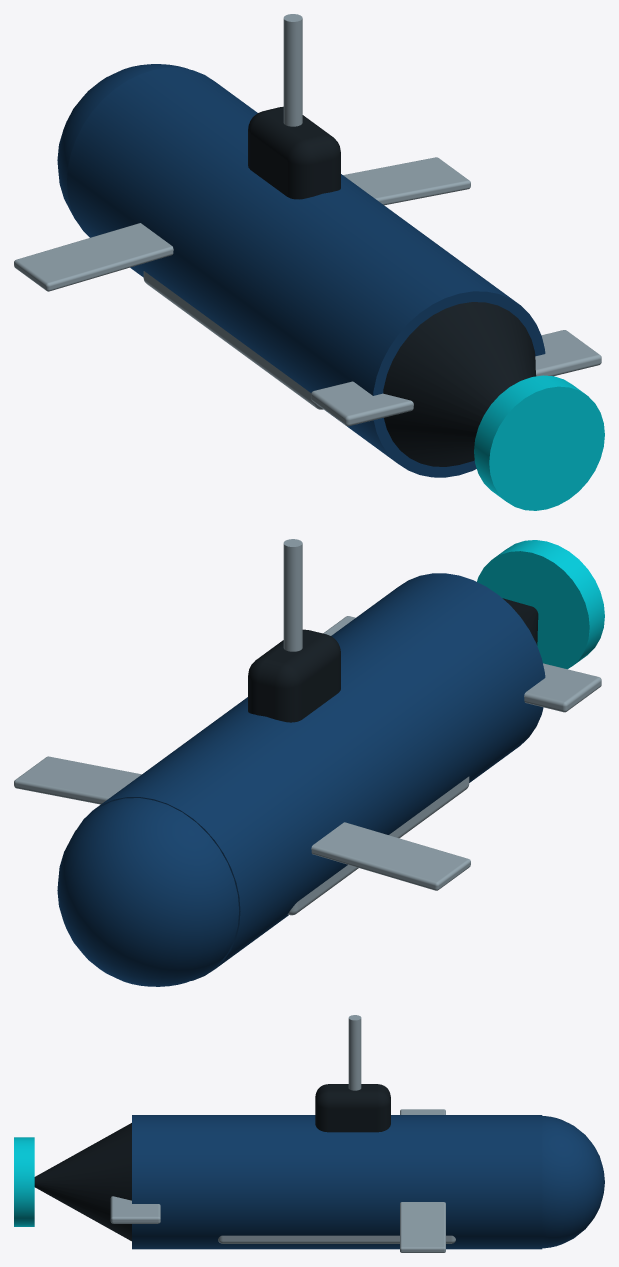
File: abyss_one.glb
The picture shows the model from 3 angles, top to bottom: view 1: azimuth 30°, elevation 25°; view 2: azimuth 150°, elevation 25°; view 3: azimuth 270°, elevation 25°; orthographic projection. The views are drawn at different scales.
Visible parts, largest first — view 1: meet_mesh__pressure_hull__central_hull, meet_mesh__stern__propulsion_fairing, meet_mesh__propulsor__rim_drive, meet_mesh__sail__command_sail, meet_mesh__left_dive_plane__control_surface, meet_mesh__tail_planes__horizontal_control, meet_mesh__right_dive_plane__control_surface, meet_mesh__bow__hydrodynamic_nose, meet_mesh__periscope__sensor_mast, meet_mesh__ballast_left__variable_tank; view 2: meet_mesh__pressure_hull__central_hull, meet_mesh__bow__hydrodynamic_nose, meet_mesh__propulsor__rim_drive, meet_mesh__sail__command_sail, meet_mesh__left_dive_plane__control_surface, meet_mesh__right_dive_plane__control_surface, meet_mesh__tail_planes__horizontal_control, meet_mesh__periscope__sensor_mast, meet_mesh__ballast_left__variable_tank; view 3: meet_mesh__pressure_hull__central_hull, meet_mesh__bow__hydrodynamic_nose, meet_mesh__stern__propulsion_fairing, meet_mesh__sail__command_sail, meet_mesh__right_dive_plane__control_surface, meet_mesh__propulsor__rim_drive, meet_mesh__ballast_right__variable_tank, meet_mesh__tail_planes__horizontal_control, meet_mesh__periscope__sensor_mast.
Boxes of the visible parts, left/top/right/bottom form: meet_mesh__pressure_hull__central_hull: left=67, top=67, right=545, bottom=477; meet_mesh__stern__propulsion_fairing: left=383, top=302, right=536, bottom=466; meet_mesh__propulsor__rim_drive: left=474, top=375, right=604, bottom=510; meet_mesh__sail__command_sail: left=248, top=106, right=340, bottom=199; meet_mesh__left_dive_plane__control_surface: left=14, top=223, right=173, bottom=291; meet_mesh__tail_planes__horizontal_control: left=311, top=330, right=601, bottom=426; meet_mesh__right_dive_plane__control_surface: left=343, top=157, right=470, bottom=205; meet_mesh__bow__hydrodynamic_nose: left=57, top=64, right=189, bottom=219; meet_mesh__periscope__sensor_mast: left=283, top=14, right=302, bottom=126; meet_mesh__ballast_left__variable_tank: left=143, top=271, right=323, bottom=409; meet_mesh__pressure_hull__central_hull: left=78, top=573, right=545, bottom=980; meet_mesh__bow__hydrodynamic_nose: left=57, top=798, right=239, bottom=986; meet_mesh__propulsor__rim_drive: left=477, top=540, right=604, bottom=669; meet_mesh__sail__command_sail: left=248, top=629, right=340, bottom=722; meet_mesh__left_dive_plane__control_surface: left=311, top=822, right=470, bottom=890; meet_mesh__right_dive_plane__control_surface: left=14, top=756, right=141, bottom=804; meet_mesh__tail_planes__horizontal_control: left=323, top=616, right=601, bottom=712; meet_mesh__periscope__sensor_mast: left=283, top=539, right=302, bottom=651; meet_mesh__ballast_left__variable_tank: left=287, top=776, right=469, bottom=915; meet_mesh__pressure_hull__central_hull: left=132, top=1115, right=542, bottom=1249; meet_mesh__bow__hydrodynamic_nose: left=542, top=1116, right=604, bottom=1248; meet_mesh__stern__propulsion_fairing: left=34, top=1123, right=131, bottom=1241; meet_mesh__sail__command_sail: left=315, top=1084, right=390, bottom=1132; meet_mesh__right_dive_plane__control_surface: left=400, top=1202, right=445, bottom=1252; meet_mesh__propulsor__rim_drive: left=14, top=1137, right=34, bottom=1226; meet_mesh__ballast_right__variable_tank: left=218, top=1235, right=455, bottom=1243; meet_mesh__tail_planes__horizontal_control: left=110, top=1196, right=160, bottom=1223; meet_mesh__periscope__sensor_mast: left=348, top=1015, right=361, bottom=1090.
Bounding box in the file's own units: 5.14 × 3.88 × 9.22.
